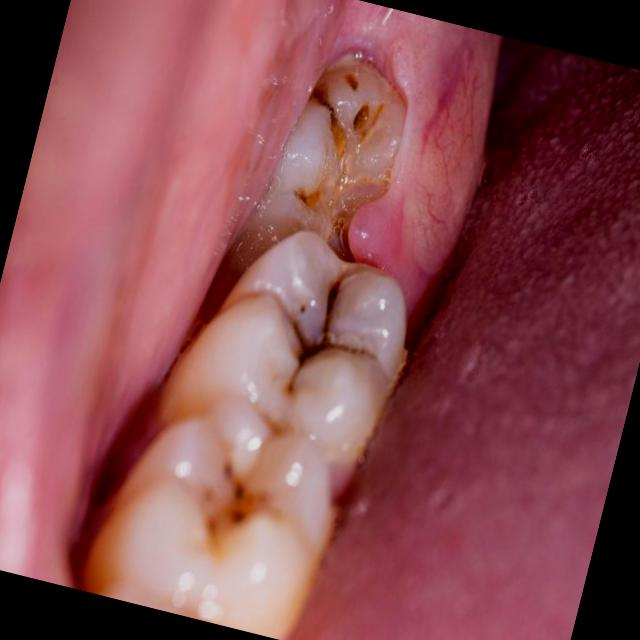caries: (144, 210, 436, 499), (81, 379, 366, 640)
